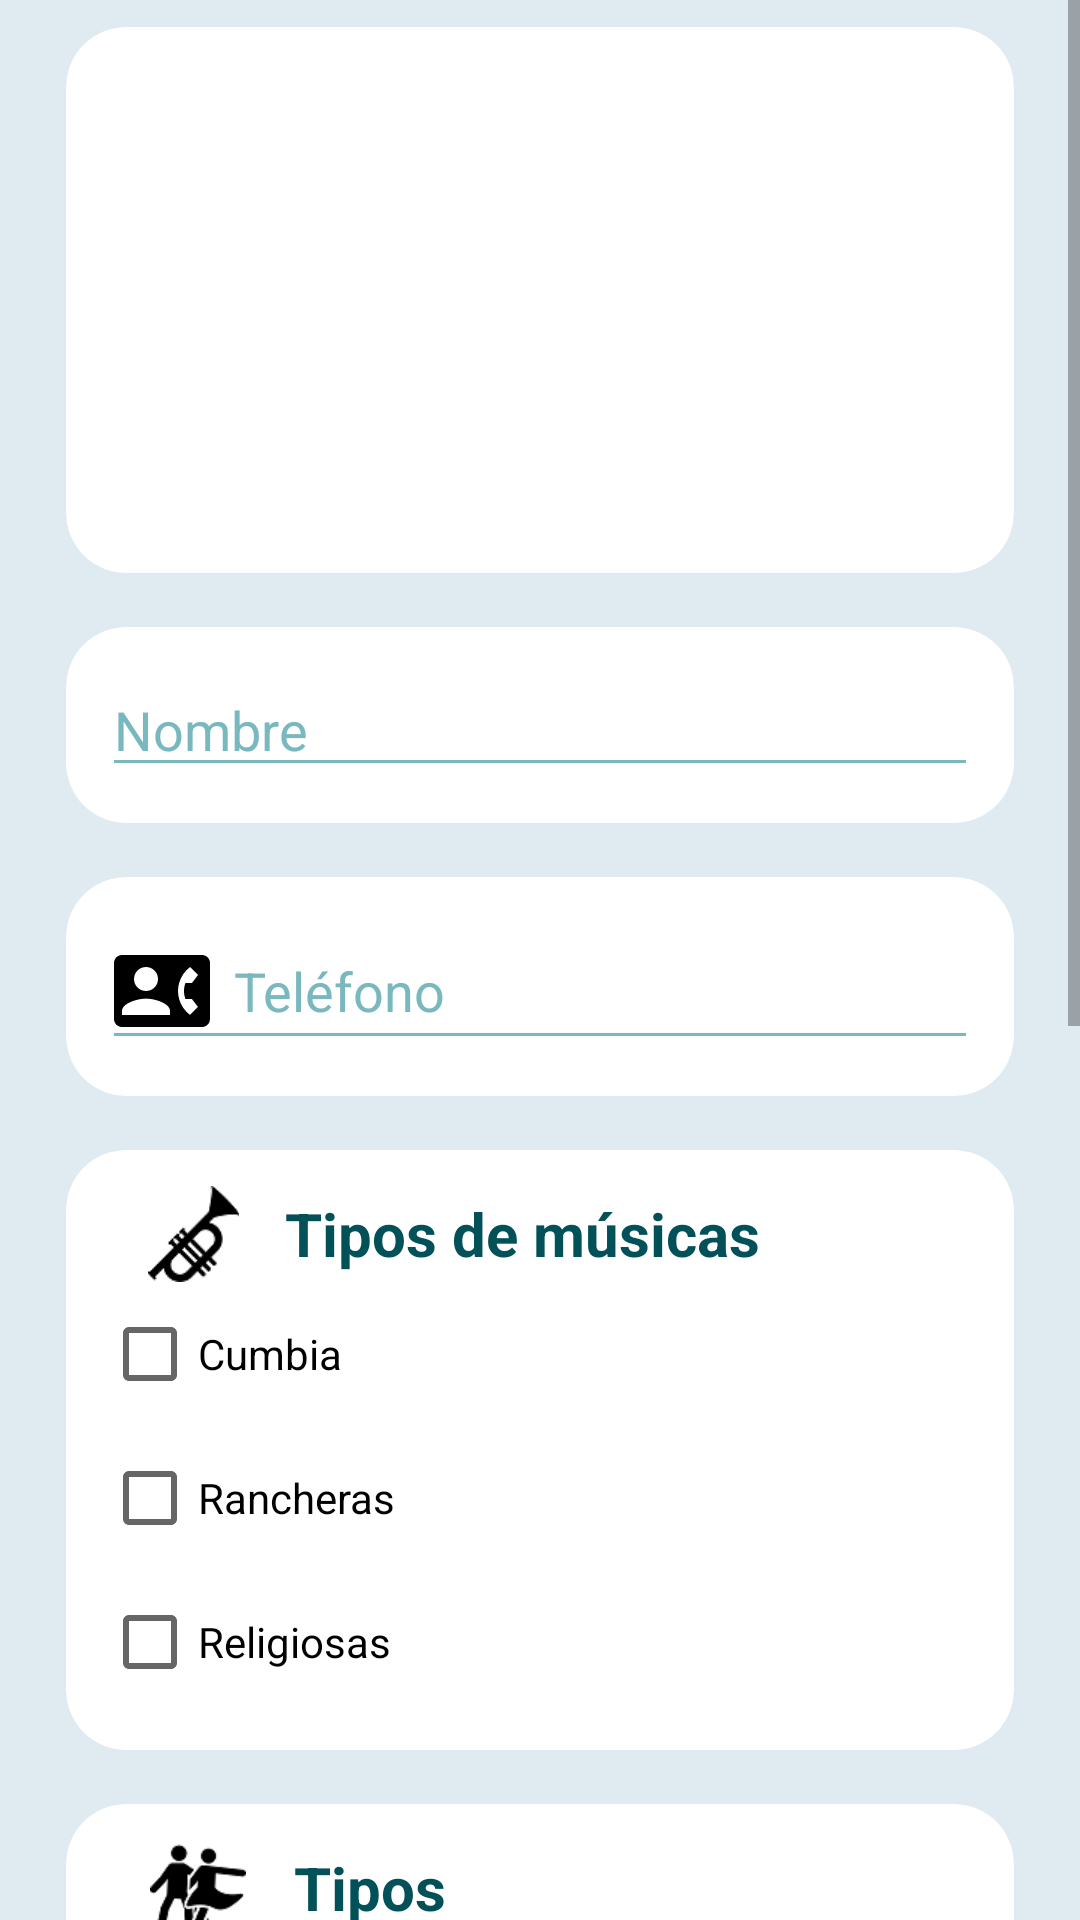

Screen size 1080px×1920px. Icon name, then its box in pixels as (x1, y1, x2, y2):
trumpet: (148, 1186, 239, 1282)
